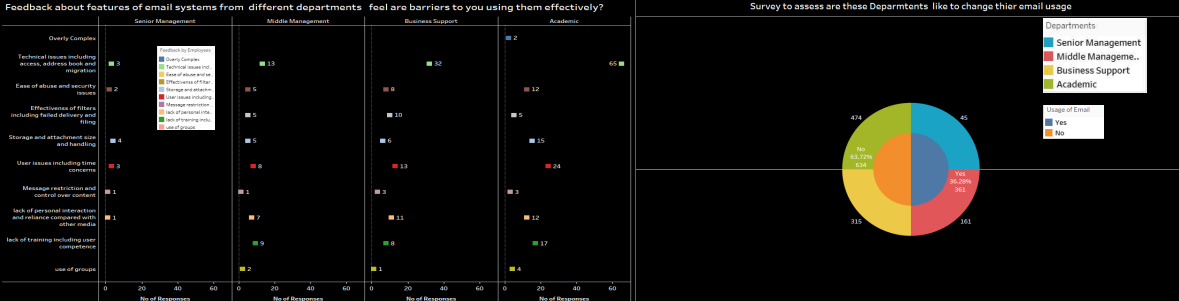

What the dashboard file says about the page in this screenshot:
{"tool":"tableau","page":{"name":"Dashboard 1","canvas":[1000,800],"ordinal":0},"visuals":[{"type":"worksheet","title":"Dep | No of Emails 5","mark":"Automatic","rows":["q_9_score_1"],"cols":["Q 9 Score 1 (copy)_1148417962966073353"],"box":[8,8,412,784]},{"type":"worksheet","title":"Dep | Sent Emails 5","mark":"Automatic","rows":["q_7_score_1"],"cols":["Q 7 Score 1 (copy)_1148417962934714375"],"box":[420,8,412,784]},{"type":"legend","title":"Dep | No of Emails 5","param":"[federated.1vqb8er0xumu9017hvdqu1wmguf6].[none:Q 2 Score (copy)_1148417962895937","box":[832,8,160,106]}]}

Visuals, with their boxes in screenshot pixels (x1, y1, x2, y2):
"Dep | No of Emails 5" worksheet: pyautogui.locateOnScreen(212, 3, 359, 283)
"Dep | Sent Emails 5" worksheet: pyautogui.locateOnScreen(359, 3, 506, 283)
"Dep | No of Emails 5" legend: pyautogui.locateOnScreen(506, 3, 564, 41)
